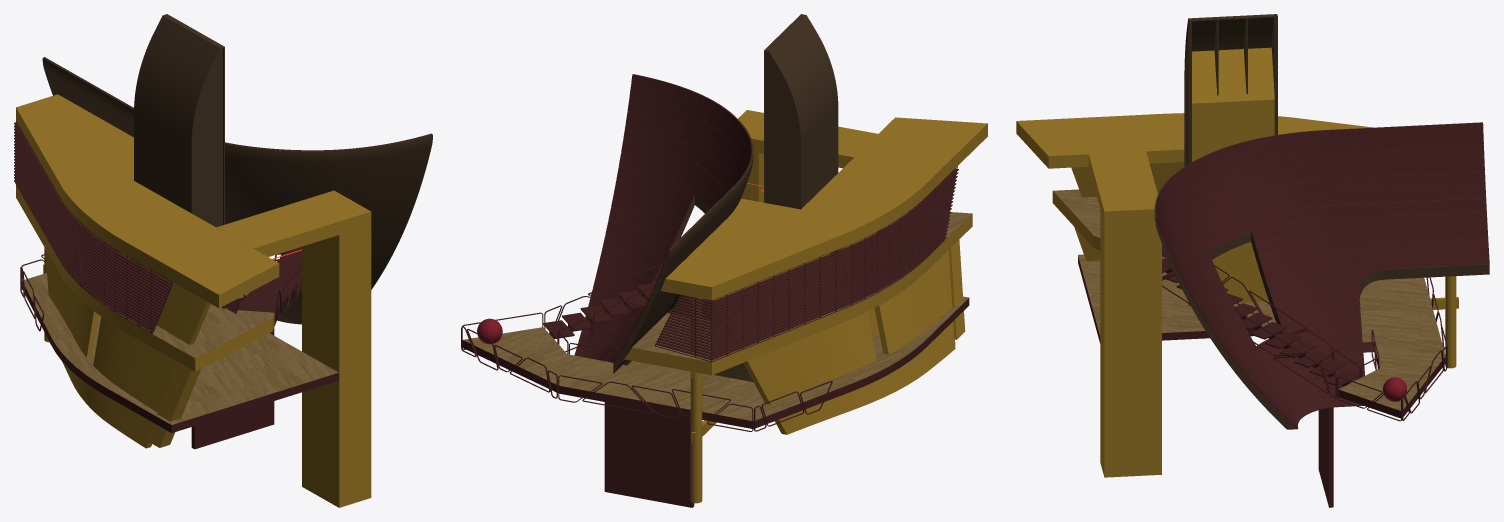
The model's file is mathare.glb.
3 views of the same model, side by side, from view 1: azimuth 30°, elevation 25°; view 2: azimuth 150°, elevation 25°; view 3: azimuth 270°, elevation 25° (orthographic). The views are drawn at different scales.
Parts seen in each view (by area): view 1: MATHARE, Box023, Line022, Arc017, Group016, Shape002, Box029, Line020, StraightStair001, Group017; view 2: MATHARE, Line022, Shape002, Group016, Arc017, Line020, Box029, Box023, StraightStair001, Cylinder001, Group017; view 3: MATHARE, Box023, Group016, Line022, Arc017, StraightStair001, Box029, Cylinder001, Line020.
Boxes of the visible parts, <box> form: MATHARE: <box>20,57,431,449</box>; Box023: <box>216,190,371,507</box>; Line022: <box>16,94,279,308</box>; Arc017: <box>42,57,432,324</box>; Group016: <box>134,14,224,309</box>; Shape002: <box>14,122,172,331</box>; Box029: <box>192,48,222,307</box>; Line020: <box>16,185,274,371</box>; StraightStair001: <box>238,246,301,325</box>; Group017: <box>16,121,172,333</box>; MATHARE: <box>461,74,971,507</box>; Line022: <box>660,117,987,300</box>; Shape002: <box>655,168,958,360</box>; Group016: <box>764,14,838,209</box>; Arc017: <box>590,74,753,373</box>; Line020: <box>624,213,972,375</box>; Box029: <box>765,52,799,209</box>; Box023: <box>738,110,877,202</box>; StraightStair001: <box>543,277,657,339</box>; Cylinder001: <box>690,298,702,503</box>; Group017: <box>655,166,957,362</box>; MATHARE: <box>1053,122,1489,507</box>; Box023: <box>1088,151,1161,477</box>; Group016: <box>1184,14,1277,305</box>; Line022: <box>1016,113,1372,168</box>; Arc017: <box>1154,122,1489,429</box>; StraightStair001: <box>1162,249,1360,386</box>; Box029: <box>1186,17,1274,165</box>; Cylinder001: <box>1445,276,1456,368</box>; Line020: <box>1052,191,1100,250</box>.
Size of the model in its own units: 13.97 by 17.21 by 17.15.
Materials: 11 (1 with a texture image).
